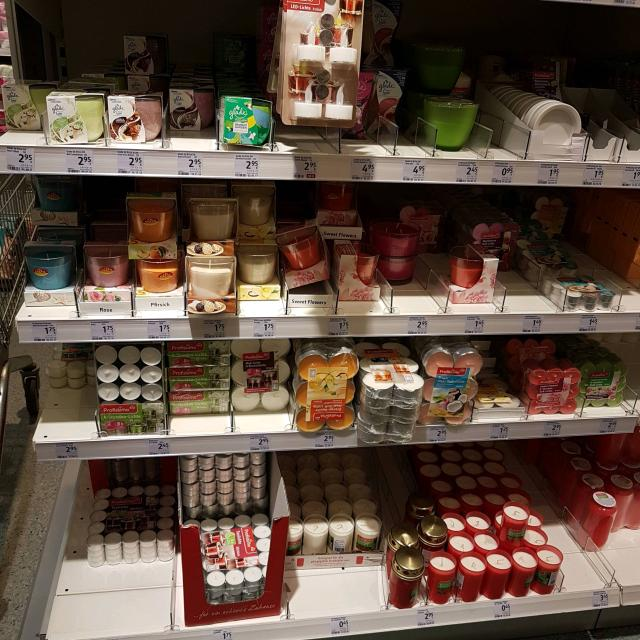unorganised: (166, 337, 230, 416), (286, 523, 383, 573), (233, 336, 294, 412), (274, 226, 333, 289), (89, 529, 176, 566), (340, 63, 378, 143), (373, 228, 421, 291), (426, 96, 480, 151), (607, 479, 640, 553), (377, 61, 409, 136), (1, 82, 49, 132), (167, 84, 215, 133), (475, 223, 516, 280), (587, 490, 611, 558), (47, 361, 97, 390), (501, 503, 529, 551)
